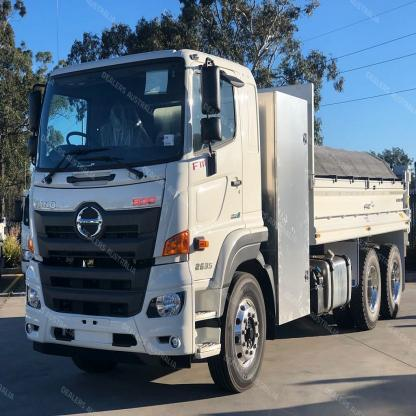dump_truck: (10, 42, 408, 400)
